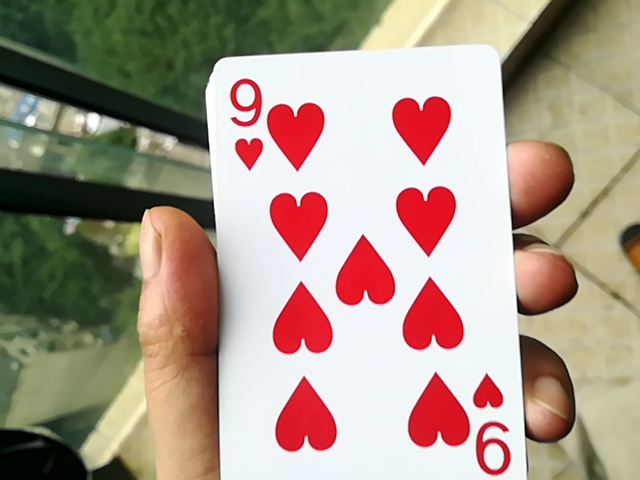hx 9: (194, 43, 535, 480)
